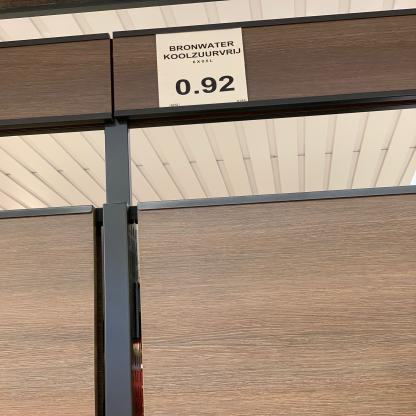prtg: (156, 28, 250, 108)
